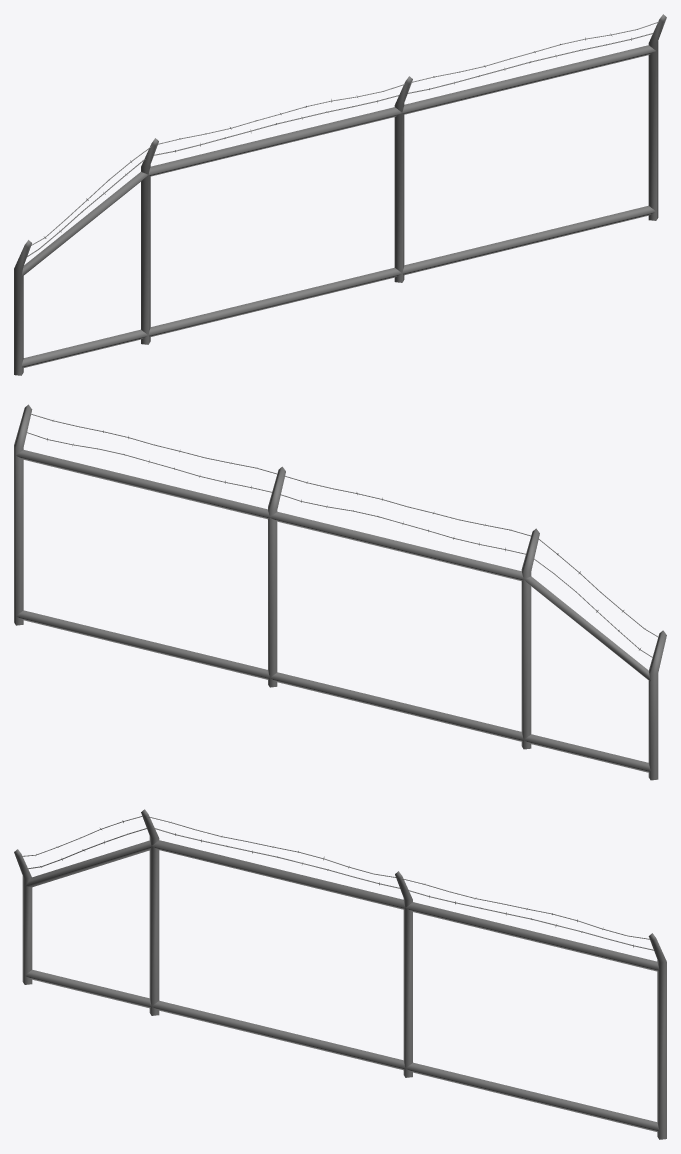
Rendered from SW_ENV_OpenTunnel_Riser_WireFence.fbx.
The picture shows the model from 3 angles, top to bottom: view 1: azimuth 30°, elevation 25°; view 2: azimuth 150°, elevation 25°; view 3: azimuth 330°, elevation 25°; orthographic projection.
Parts seen in each view (by area): view 1: SW_ENV_OpenTunnel_Riser_WireFence; view 2: SW_ENV_OpenTunnel_Riser_WireFence; view 3: SW_ENV_OpenTunnel_Riser_WireFence.
Part boxes in pixels (left/top/right/bottom): SW_ENV_OpenTunnel_Riser_WireFence: left=14, top=14, right=666, bottom=375; SW_ENV_OpenTunnel_Riser_WireFence: left=14, top=404, right=666, bottom=780; SW_ENV_OpenTunnel_Riser_WireFence: left=14, top=809, right=666, bottom=1139.
Bounding box in the file's own units: 7.61 × 2.39 × 0.2715.
